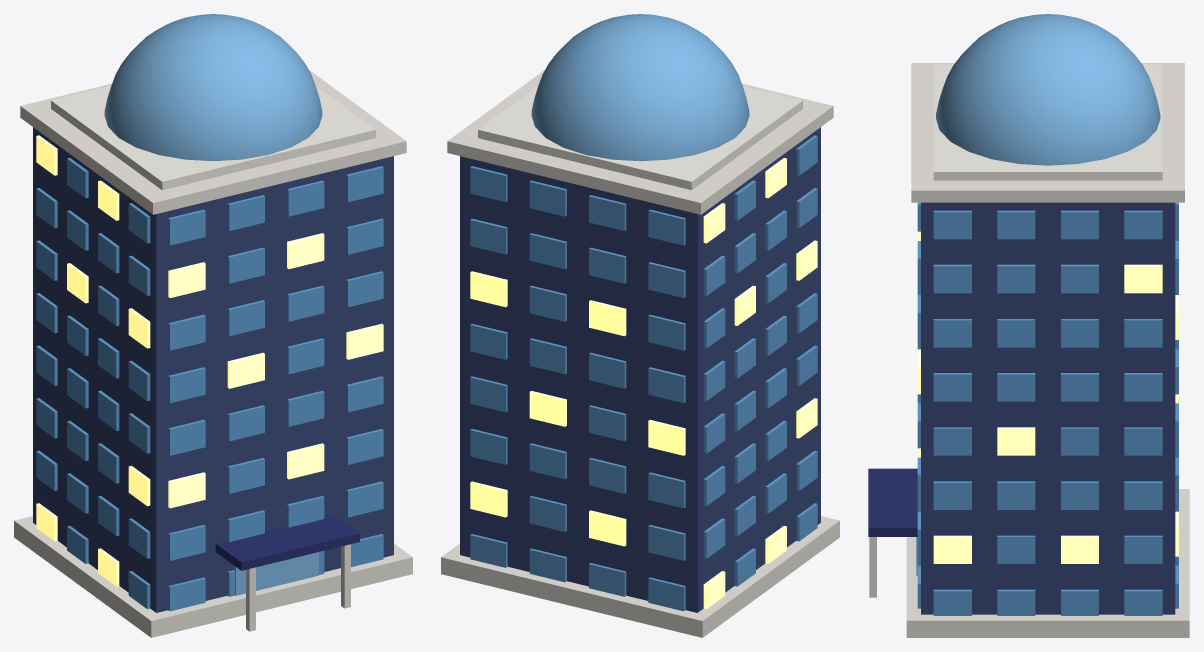
The model's file is 04_Dome_Tower.glb.
The picture shows the model from 3 angles, left to right: view 1: azimuth 30°, elevation 25°; view 2: azimuth 150°, elevation 25°; view 3: azimuth 270°, elevation 25°; orthographic projection. The views are drawn at different scales.
Parts seen in each view (by area): view 1: body, windows, glass_dome, cornice, plinth, dome_ring, entry_canopy, door_glass, pillar_l, pillar_r; view 2: body, windows, glass_dome, cornice, plinth, dome_ring; view 3: body, windows, glass_dome, cornice, plinth, dome_ring, entry_canopy, pillar_r.
Boxes of the visible parts, box(x1,y1,x2,y2) form: body: box(33, 127, 393, 612); windows: box(36, 135, 383, 611); glass_dome: box(104, 14, 322, 161); cornice: box(20, 70, 406, 214); plinth: box(14, 516, 412, 637); dome_ring: box(51, 86, 375, 190); entry_canopy: box(215, 515, 359, 570); door_glass: box(233, 552, 318, 595); pillar_l: box(246, 567, 255, 631); pillar_r: box(341, 544, 350, 608); body: box(460, 127, 820, 612); windows: box(470, 135, 817, 611); glass_dome: box(531, 14, 749, 161); cornice: box(447, 70, 833, 214); plinth: box(441, 516, 839, 637); dome_ring: box(478, 86, 802, 190); body: box(921, 202, 1175, 614); windows: box(917, 202, 1178, 615); glass_dome: box(936, 14, 1160, 165); cornice: box(911, 63, 1184, 202); plinth: box(906, 489, 1189, 637); dome_ring: box(933, 64, 1162, 180); entry_canopy: box(868, 468, 917, 536); pillar_r: box(869, 537, 876, 597).
Bounding box in the file's own units: 3.25 × 6.3 × 3.35.
